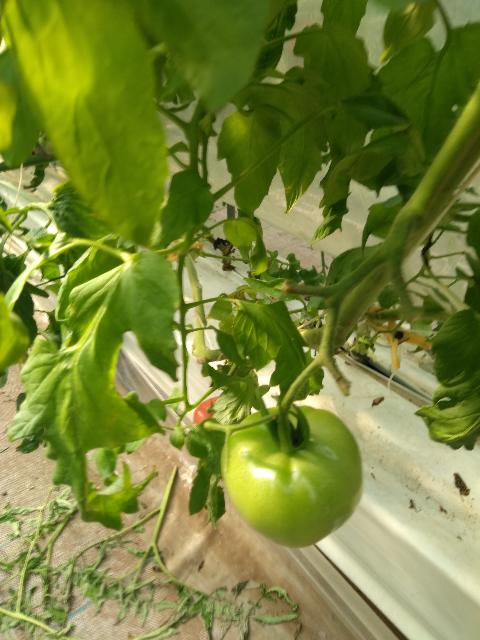b_green: (220, 405, 364, 548)
